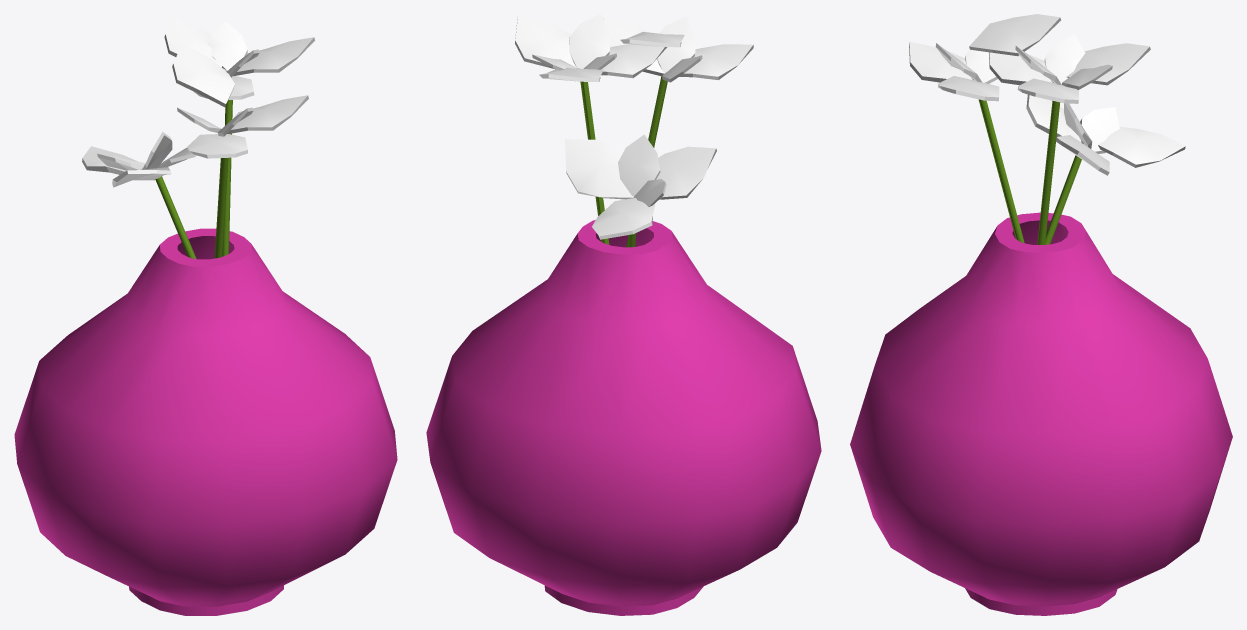
The model's file is SM_TallFlower_1.fbx.
3 renders of one model, left to right at view 1: azimuth 30°, elevation 25°; view 2: azimuth 150°, elevation 25°; view 3: azimuth 270°, elevation 25°, orthographic. The views are drawn at different scales.
Visible parts, largest first — view 1: SM_TallFlower_1; view 2: SM_TallFlower_1; view 3: SM_TallFlower_1.
Part boxes in pixels (x1=…): SM_TallFlower_1: x1=14, y1=14, x2=397, y2=615; SM_TallFlower_1: x1=426, y1=14, x2=821, y2=615; SM_TallFlower_1: x1=850, y1=14, x2=1232, y2=615.
Bounding box in the file's own units: 18.28 × 17.75 × 28.56.
1 material, 1 textured.
